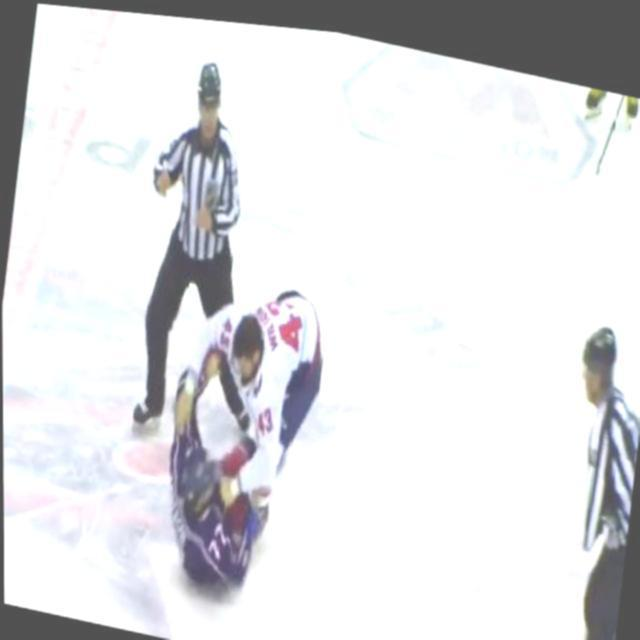fight: (150, 258, 336, 606)
